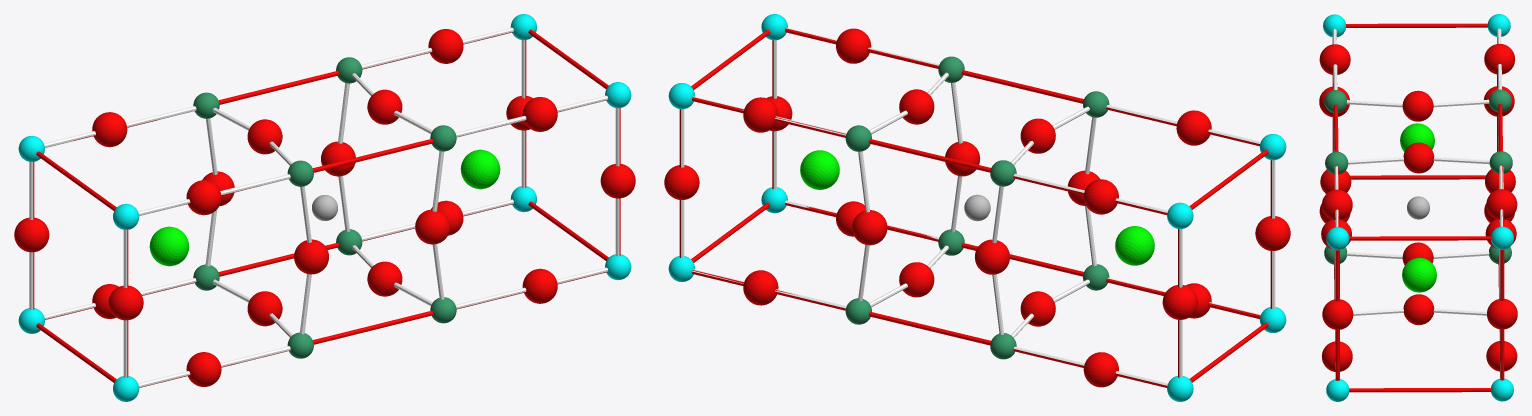
The model's file is YBa2Cu3O7-x.glb.
3 views of the same model, side by side, from view 1: azimuth 30°, elevation 25°; view 2: azimuth 150°, elevation 25°; view 3: azimuth 270°, elevation 25° (orthographic). The views are drawn at different scales.
Size of the model in its own units: 0.1243 by 0.046 by 0.0461.
